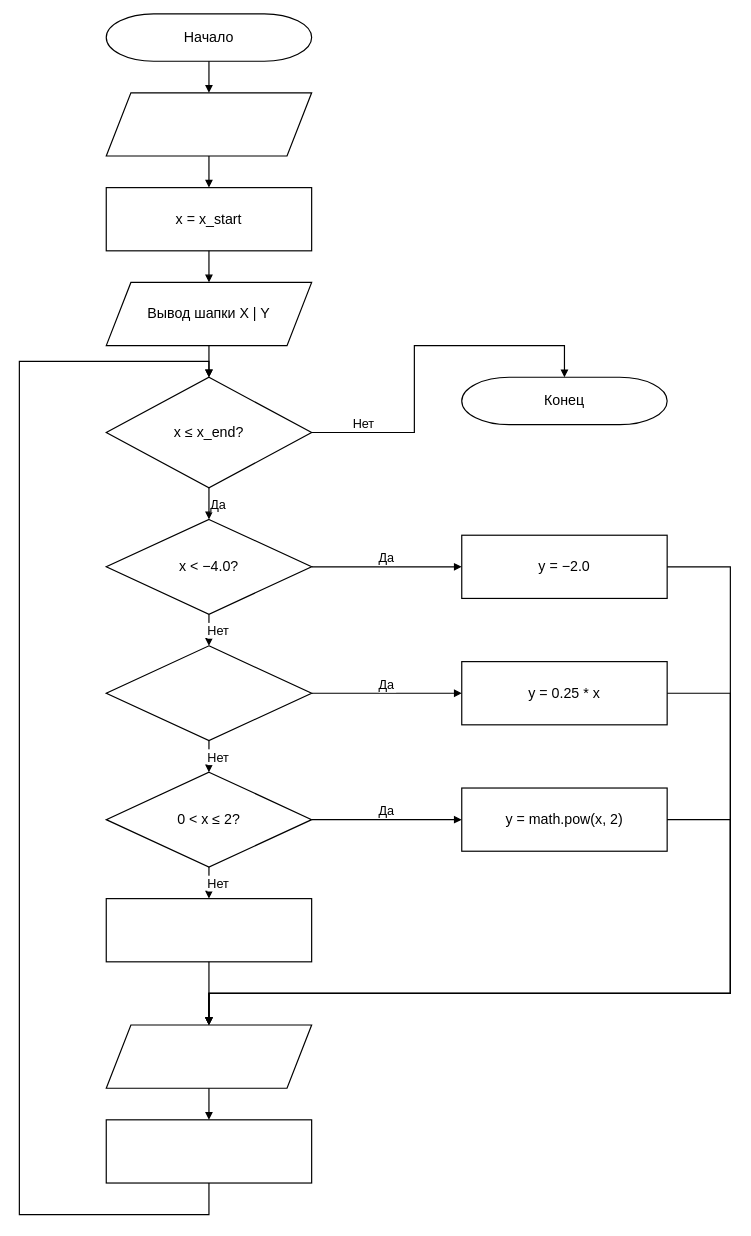
The diagram is 751 pixels wide and 1236 high, and some of its shapes have lost their labels. The shapes that lost their labels are listed below. From the top down, each one's centre as x and y in pixels, then its label:
At [208,124]: "Ввод x_start, x_end, dx".
At [208,693]: "−4 ≤ x ≤ 0?".
At [208,930]: "y = 5 − 0.5 * x".
At [208,1056]: "Вывод x, y".
At [208,1151]: "x += dx".
